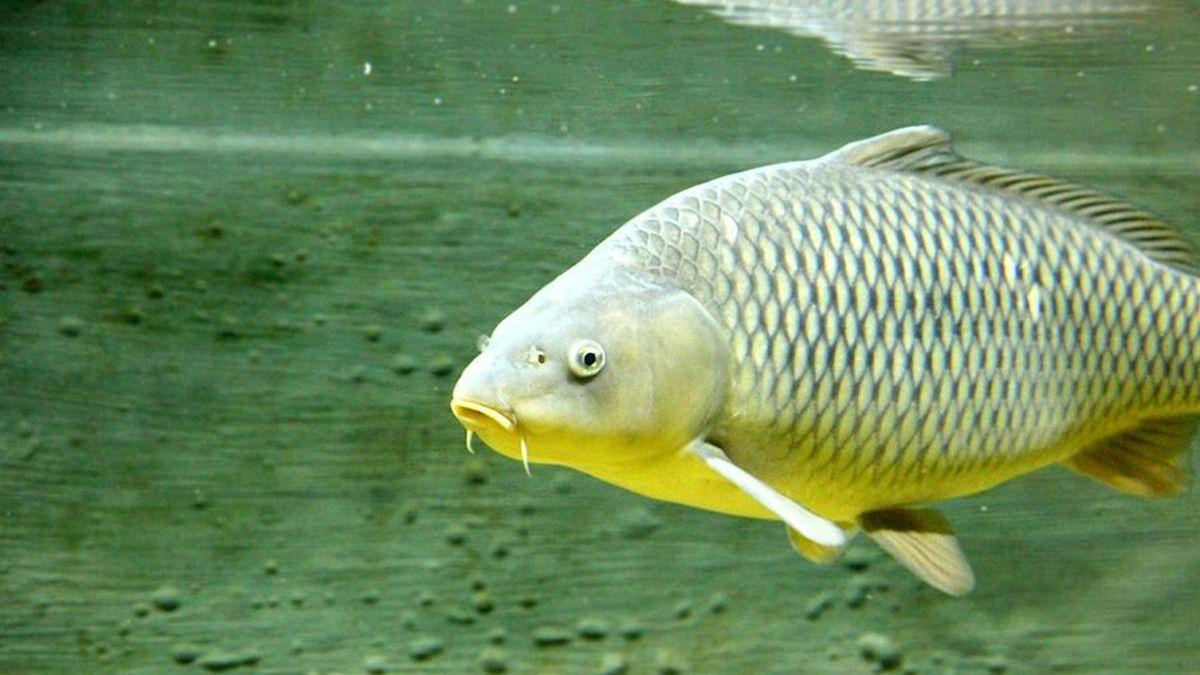Grass Carp: (447, 130, 1200, 597)
